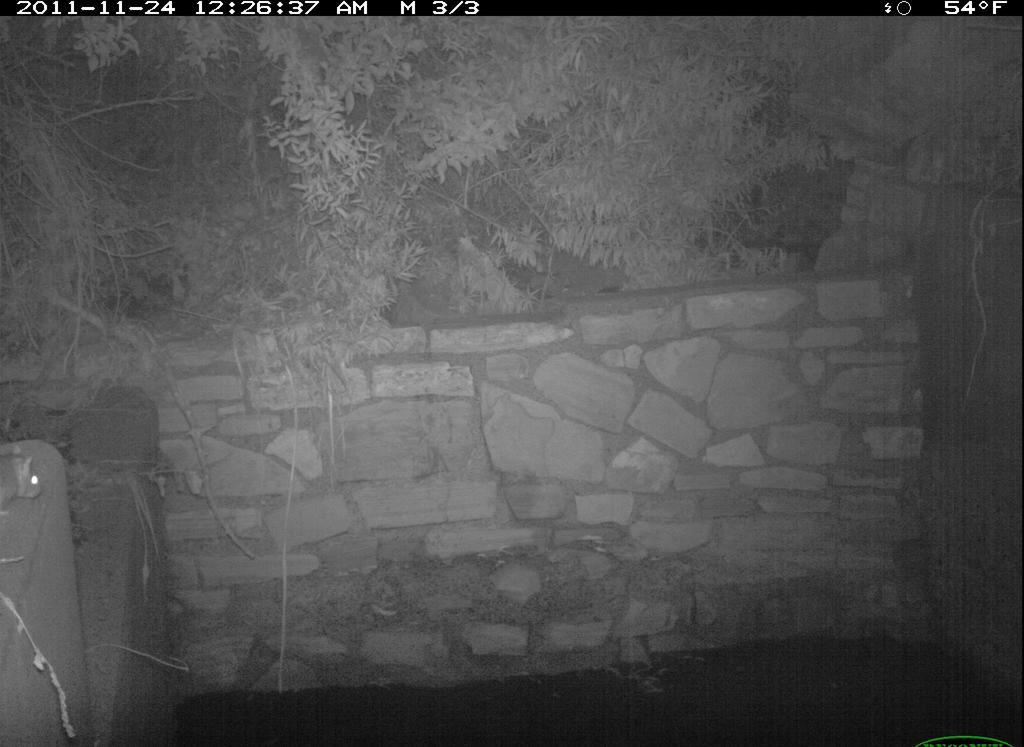rodent: (3, 438, 48, 530)
